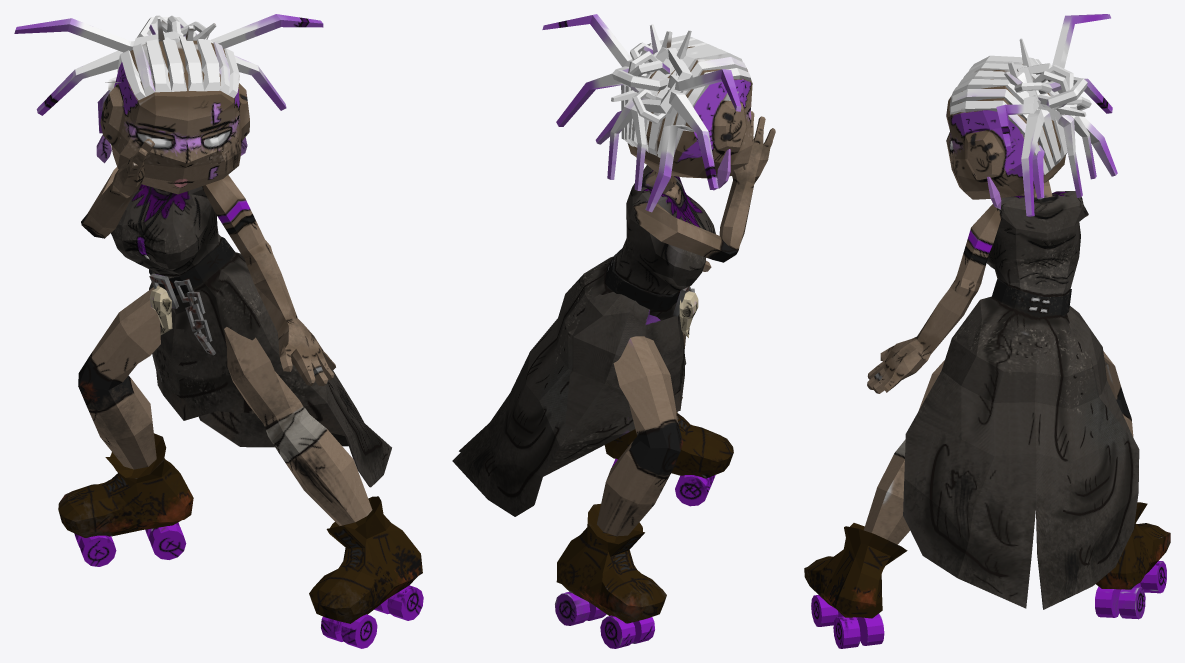
File: bruja_000067.obj
3 views of the same model, side by side, from view 1: azimuth 30°, elevation 25°; view 2: azimuth 150°, elevation 25°; view 3: azimuth 270°, elevation 25° (orthographic). The views are drawn at different scales.
Visible parts, largest first — view 1: Bruja_Plane.001; view 2: Bruja_Plane.001; view 3: Bruja_Plane.001.
Part boxes in pixels (x1,y1,x2,y2): Bruja_Plane.001: (14, 14, 423, 648); Bruja_Plane.001: (452, 14, 775, 648); Bruja_Plane.001: (804, 14, 1170, 648).
Bounding box in the file's own units: 9.19 × 15.42 × 9.25.
